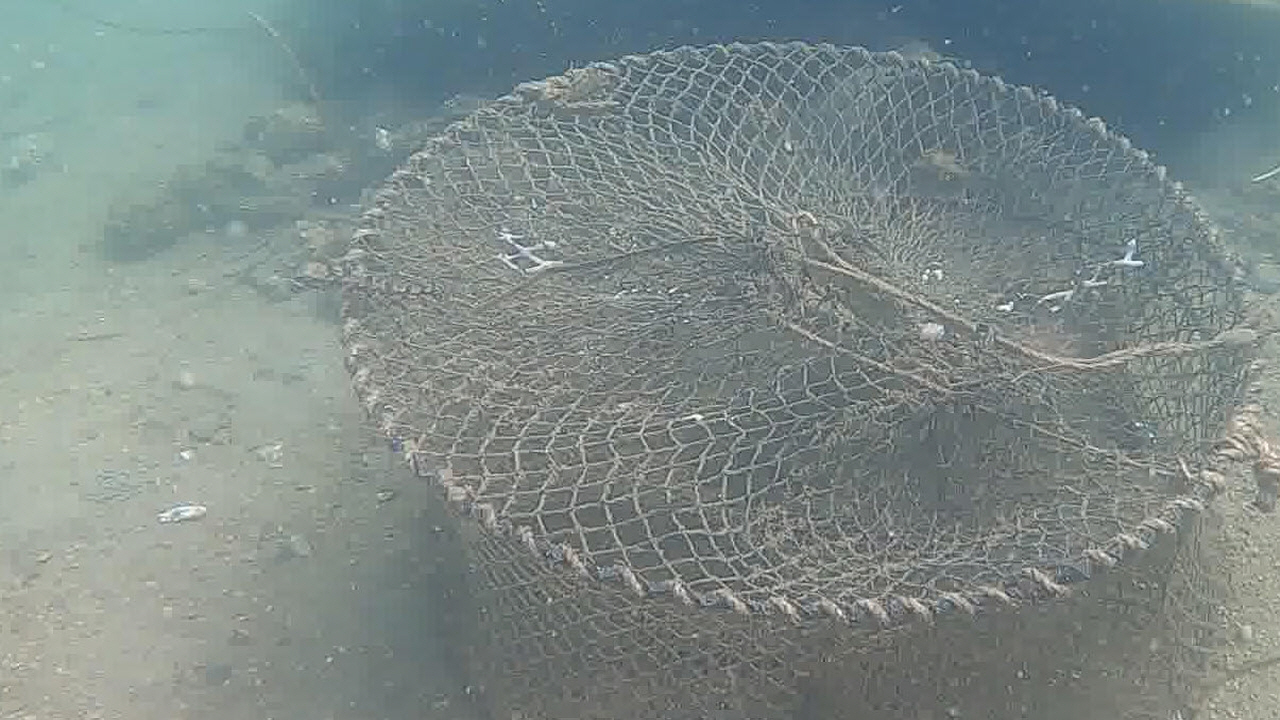circular fish trap: (341, 38, 1267, 720)
